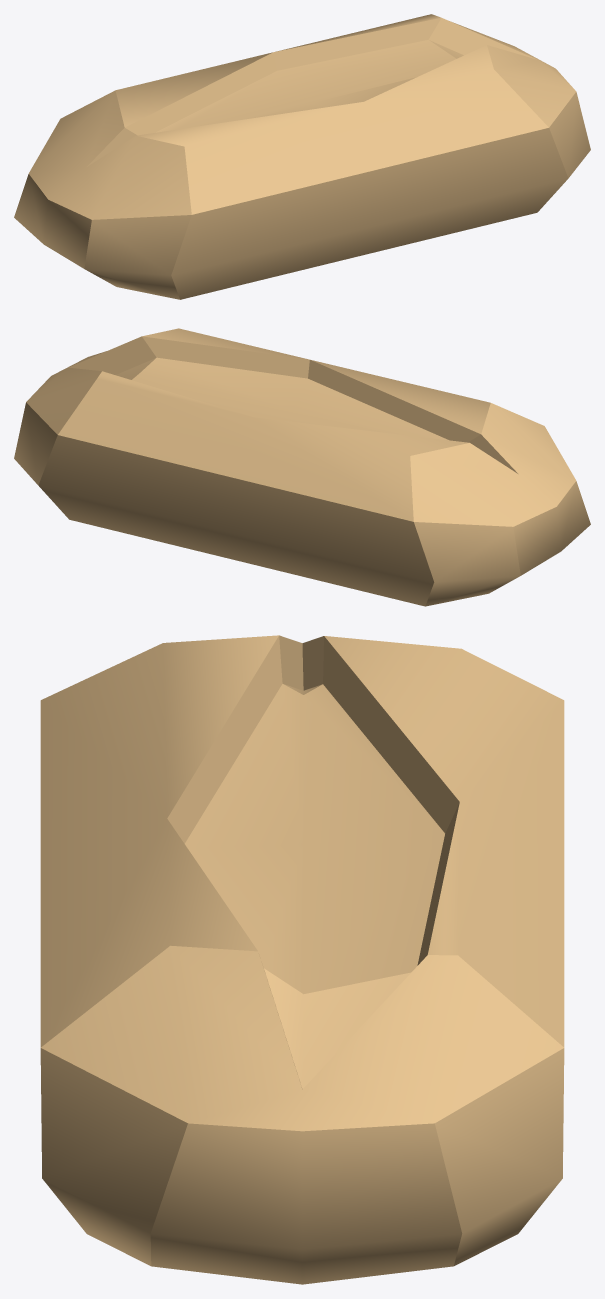
The model's file is brot.fbx.
The picture shows the model from 3 angles, top to bottom: view 1: azimuth 30°, elevation 25°; view 2: azimuth 150°, elevation 25°; view 3: azimuth 270°, elevation 25°; orthographic projection. The views are drawn at different scales.
Parts seen in each view (by area): view 1: Brot; view 2: Brot; view 3: Brot.
Boxes of the visible parts, box(x1,y1,x2,y2) form: Brot: box(14, 14, 590, 299); Brot: box(14, 328, 590, 606); Brot: box(40, 635, 564, 1284).
Bounding box in the file's own units: 2.28 × 0.5776 × 0.9901.
